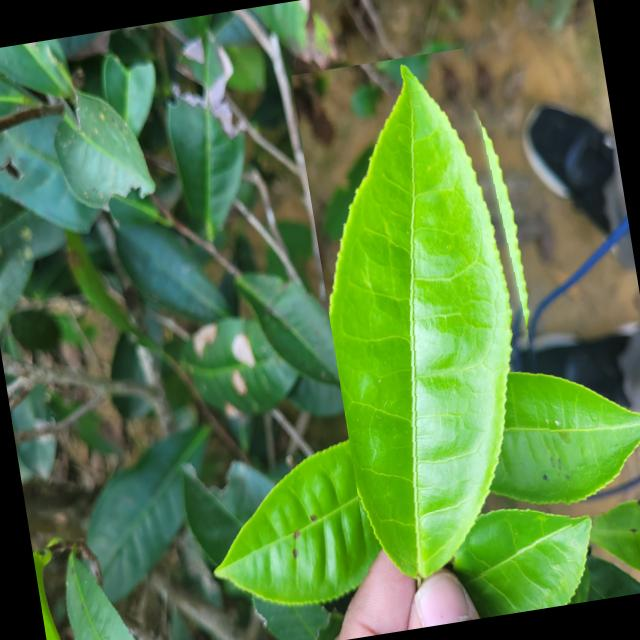Catagory A(1-2 days): (291, 42, 580, 593)
